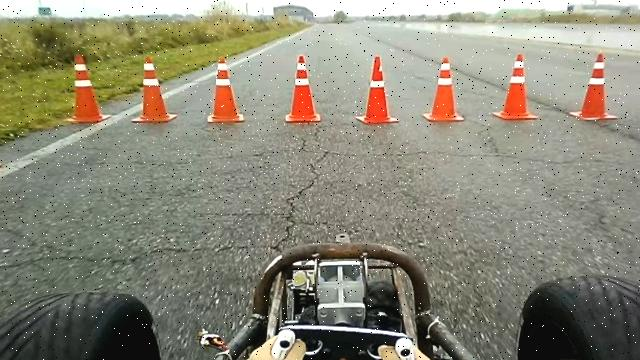red cone: (567, 52, 617, 121), (485, 52, 533, 121), (65, 52, 111, 124), (354, 55, 399, 125), (132, 55, 178, 123), (422, 56, 465, 122), (284, 54, 321, 123), (207, 56, 244, 124)
